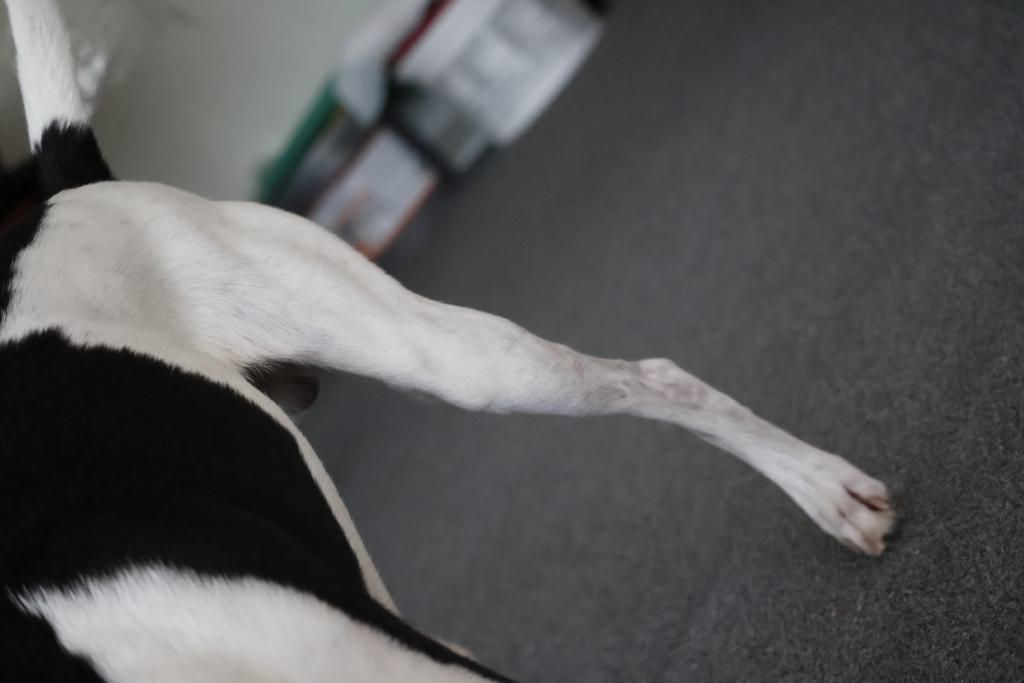Dog: (0, 0, 907, 683)
